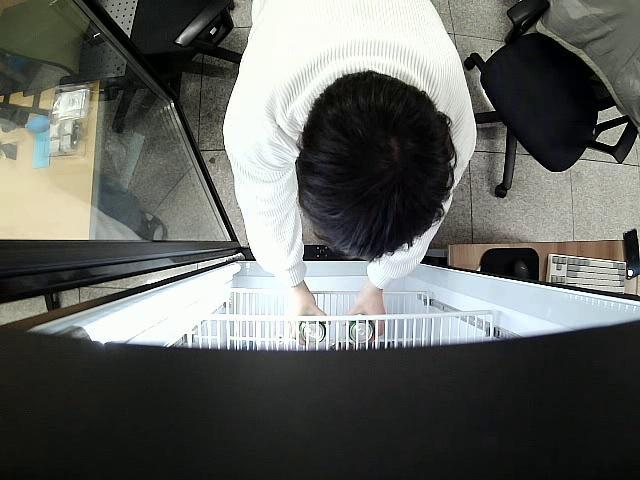12_chilsungCider: (346, 318, 374, 346), (300, 322, 327, 344)
